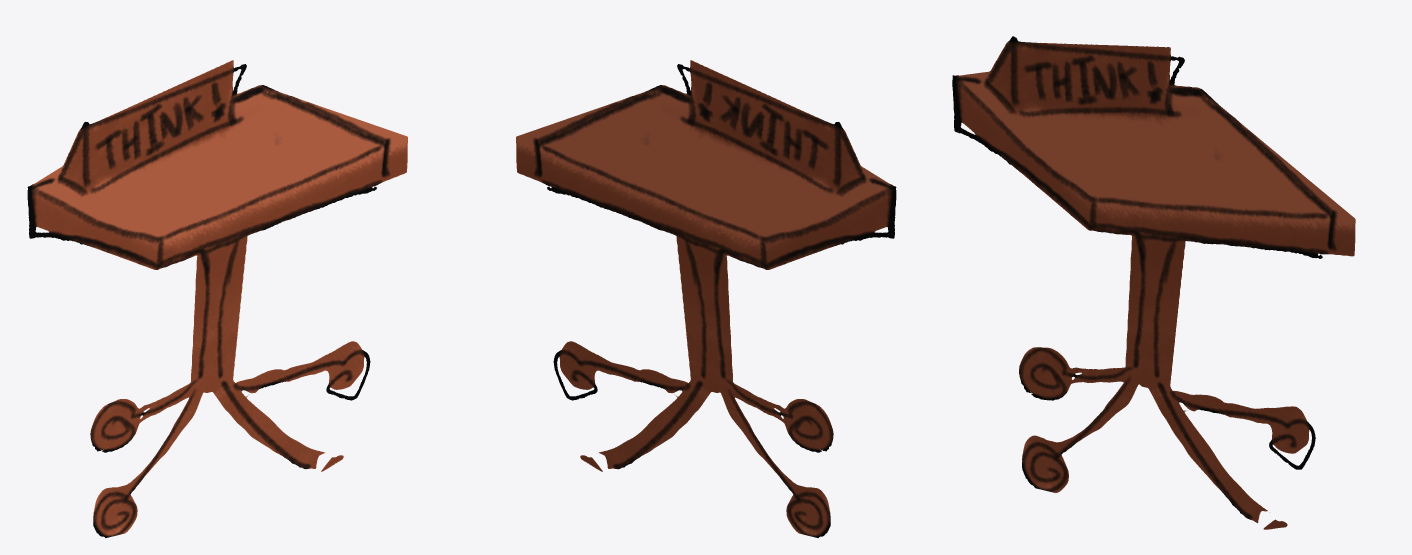
Rendered from SM_Table.fbx.
The picture shows the model from 3 angles, left to right: view 1: azimuth 30°, elevation 25°; view 2: azimuth 150°, elevation 25°; view 3: azimuth 330°, elevation 25°; orthographic projection. The views are drawn at different scales.
Visible parts, largest first — view 1: SM_Table; view 2: SM_Table; view 3: SM_Table.
Part boxes in pixels (x1,y1,x2,y2): SM_Table: (27,60,407,537); SM_Table: (516,60,896,537); SM_Table: (952,36,1355,529).
Size of the model in its own units: 93.35 by 100 by 2.65e-05.
